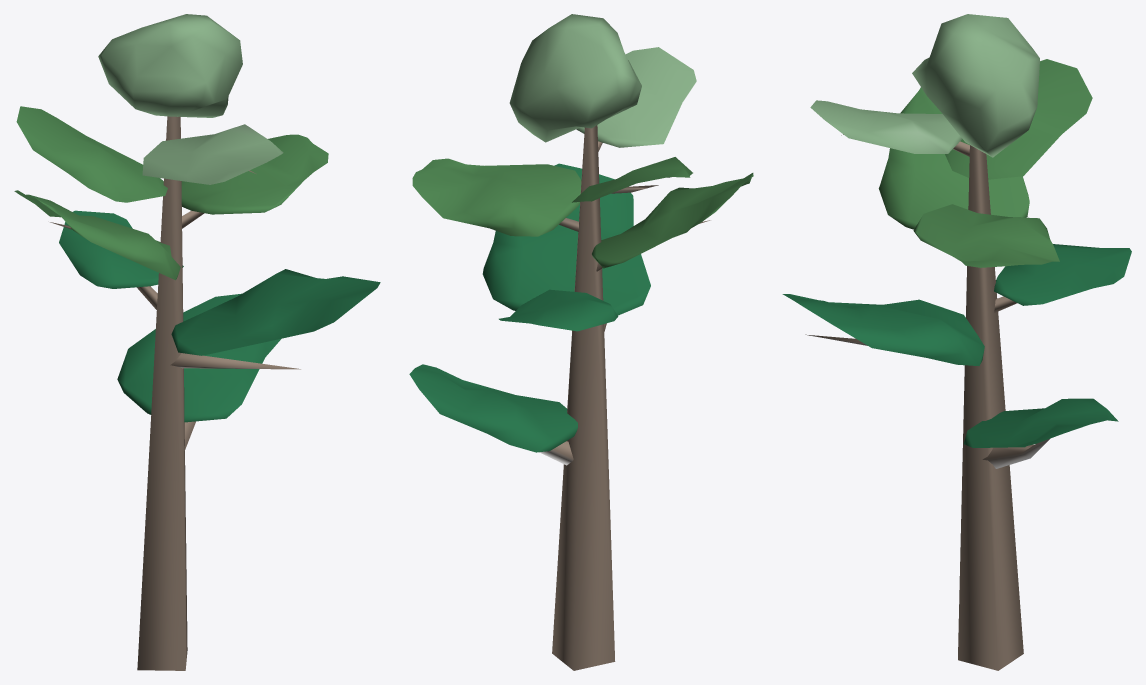
File: tree2.glb
The picture shows the model from 3 angles, left to right: view 1: azimuth 30°, elevation 25°; view 2: azimuth 150°, elevation 25°; view 3: azimuth 270°, elevation 25°; orthographic projection. The views are drawn at different scales.
Parts seen in each view (by area): view 1: pine2-lod1; view 2: pine2-lod1; view 3: pine2-lod1.
Part boxes in pixels (x1=…): pine2-lod1: x1=14, y1=14, x2=380, y2=670; pine2-lod1: x1=409, y1=14, x2=753, y2=670; pine2-lod1: x1=782, y1=14, x2=1131, y2=670.
Size of the model in its own units: 6.15 by 12.28 by 6.08.
